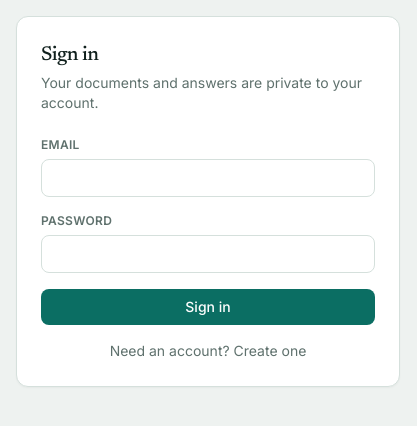
Test: AuthView › switches to registration and back
The width and height of the screenshot is (417, 426).
expect the heading "Sign in" is shown: met, box [41,45,98,65]
Click the button "Need an account? Create one": point(208, 351) [41,341,375,361]
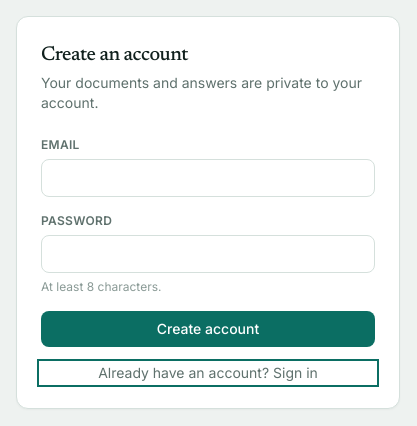
expect the heading "Create an account" is shown: met, box [41,45,188,65]
Click the button "Already have an account? Sign in": point(208, 373) [41,363,375,383]
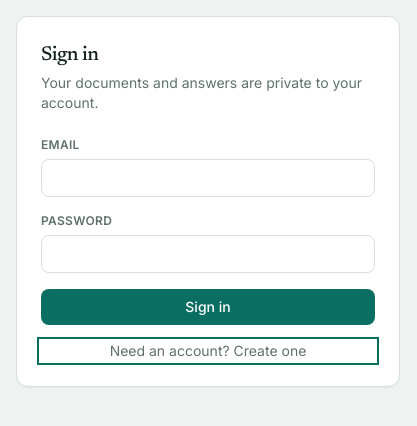
expect the heading "Sign in" is shown: met, box [41,45,98,65]
